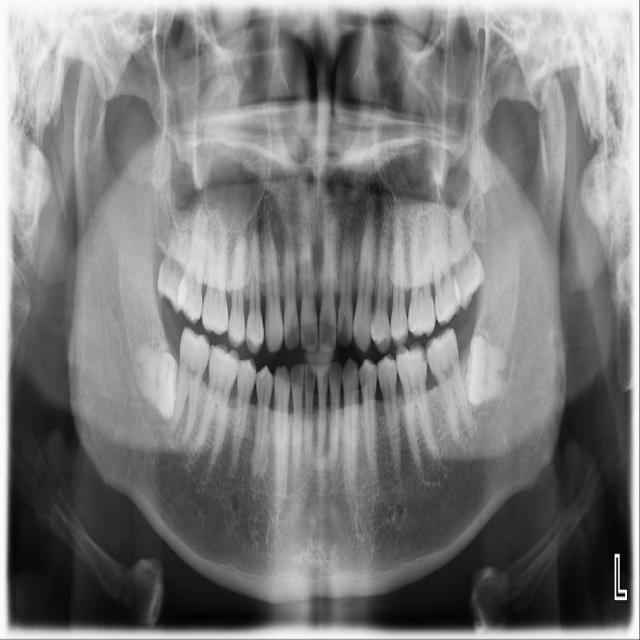3M ESPE Implant: (155, 211, 192, 315)
73: (592, 562, 596, 568)
BioHorizons Implant: (425, 191, 464, 328)
BioLife Implant: (449, 200, 487, 313)
Biomet 3i Implant: (463, 331, 506, 406)
Blue Sky Bio Implant: (421, 328, 477, 446)
Caries: (176, 210, 209, 325)
Implant: (168, 324, 213, 448)
Keystone Dental Implant: (130, 345, 179, 419)
